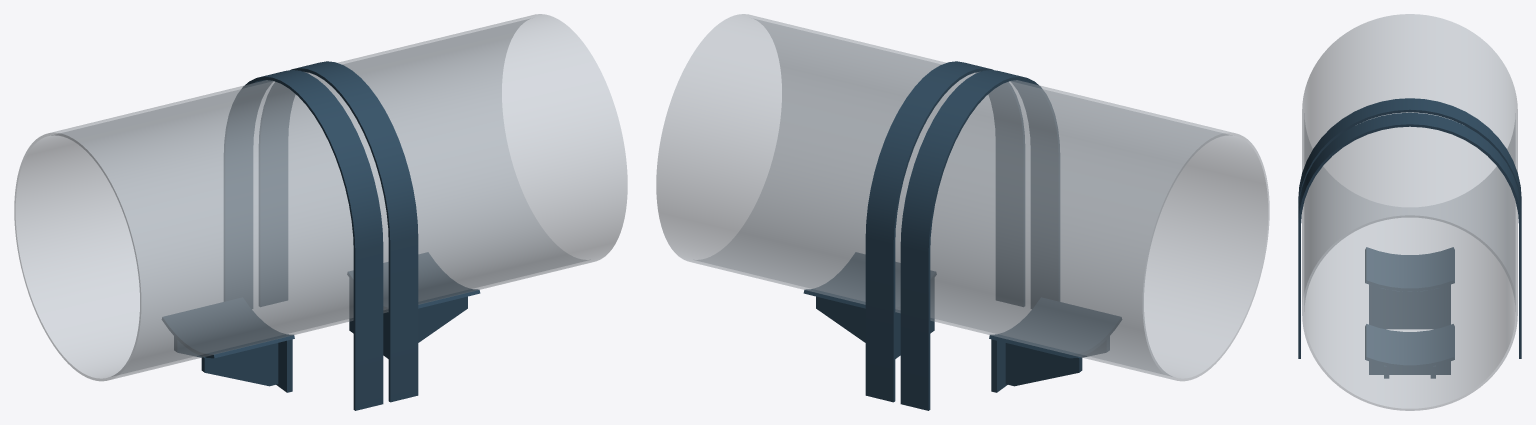
Rendered from TS-669.00.00-23-opora-dn630-ris2.glb.
The picture shows the model from 3 angles, left to right: view 1: azimuth 30°, elevation 25°; view 2: azimuth 150°, elevation 25°; view 3: azimuth 270°, elevation 25°; orthographic projection. The views are drawn at different scales.
Visible parts, largest first — view 1: truba, homut_10, homut_9, upor_8, upor_6, upor_4, upor_2, upor_5; view 2: truba, homut_10, homut_9, upor_8, upor_7, upor_4, upor_3, upor_5; view 3: truba, homut_9, homut_10, upor_8, upor_4, upor_5, upor_1.
Part boxes in pixels (left/top/right/bottom): truba: left=14, top=14, right=627, bottom=381; homut_10: left=224, top=70, right=383, bottom=410; homut_9: left=259, top=61, right=418, bottom=402; upor_8: left=162, top=297, right=294, bottom=358; upor_6: left=201, top=343, right=278, bottom=386; upor_4: left=347, top=252, right=480, bottom=311; upor_2: left=418, top=296, right=467, bottom=342; upor_5: left=276, top=339, right=292, bottom=392; truba: left=656, top=14, right=1269, bottom=381; homut_10: left=900, top=70, right=1059, bottom=410; homut_9: left=865, top=61, right=1024, bottom=402; upor_8: left=989, top=297, right=1121, bottom=358; upor_7: left=1005, top=343, right=1082, bottom=386; upor_4: left=803, top=252, right=936, bottom=311; upor_3: left=816, top=296, right=865, bottom=342; upor_5: left=991, top=339, right=1007, bottom=392; truba: left=1302, top=14, right=1517, bottom=410; homut_9: left=1298, top=112, right=1521, bottom=358; homut_10: left=1298, top=98, right=1521, bottom=210; upor_8: left=1365, top=247, right=1454, bottom=291; upor_4: left=1365, top=324, right=1454, bottom=368; upor_5: left=1369, top=284, right=1450, bottom=329; upor_1: left=1369, top=361, right=1450, bottom=374.
Size of the model in its own units: 1390 by 772 by 652.
